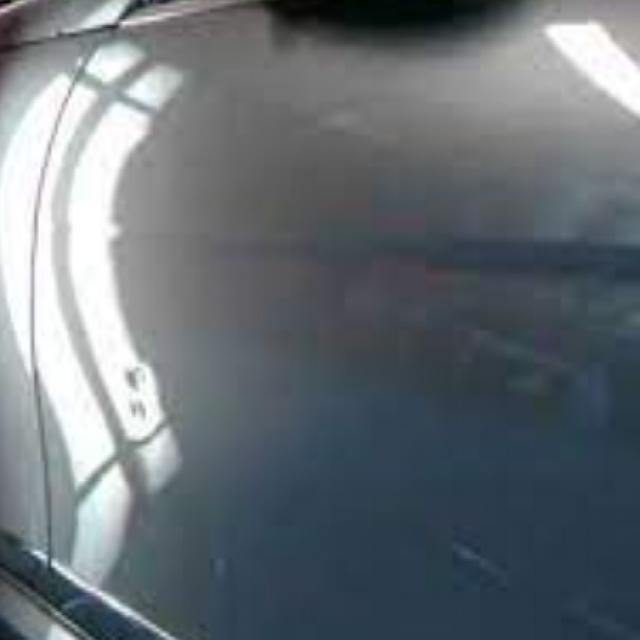dents: (110, 396, 174, 445), (195, 548, 240, 599), (112, 359, 155, 393)
